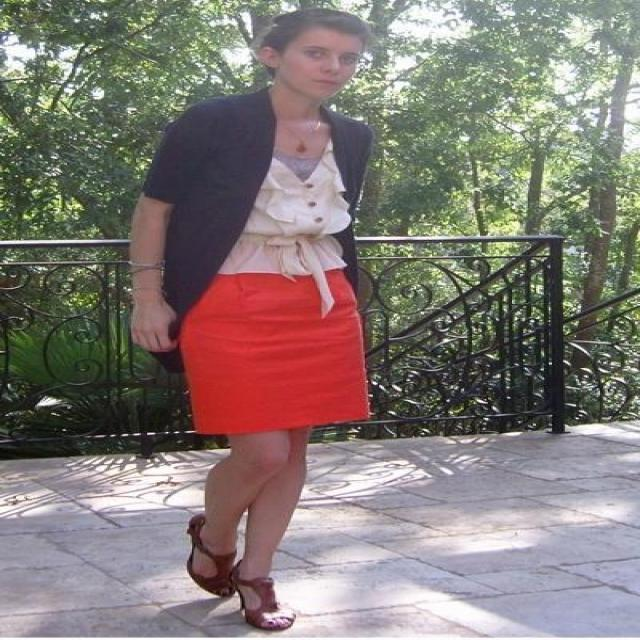jacket: (142, 93, 413, 375)
shirt: (218, 152, 350, 294)
shoe: (187, 538, 293, 634)
skirt: (179, 270, 373, 435)
